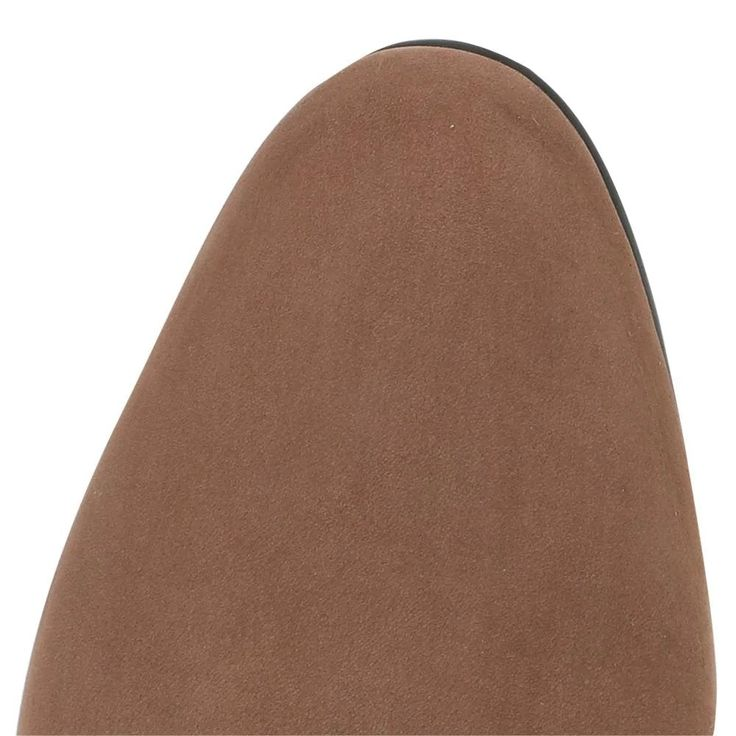gamuza: (17, 44, 718, 736)
